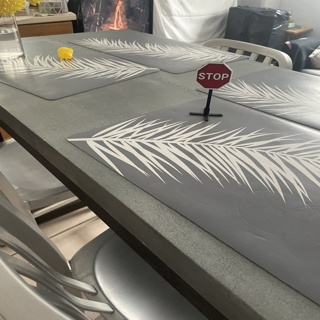sign_stop: (196, 63, 231, 89)
